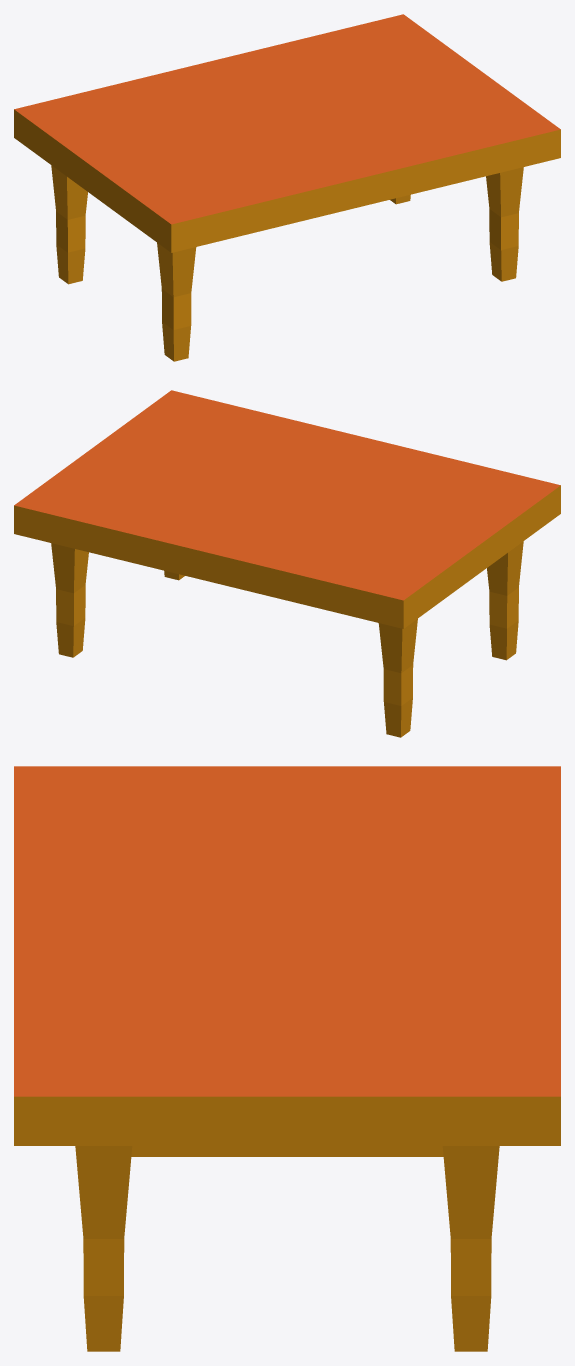
Rendered from MejaWMDJadi.fbx.
The picture shows the model from 3 angles, top to bottom: view 1: azimuth 30°, elevation 25°; view 2: azimuth 150°, elevation 25°; view 3: azimuth 270°, elevation 25°; orthographic projection. The views are drawn at different scales.
Visible parts, largest first — view 1: Cube; view 2: Cube; view 3: Cube.
Boxes of the visible parts, x1,y1,x2,y2 form: Cube: [14, 14, 560, 361]; Cube: [14, 390, 560, 737]; Cube: [14, 766, 560, 1351].
Size of the model in its own units: 200 by 77.76 by 140.
